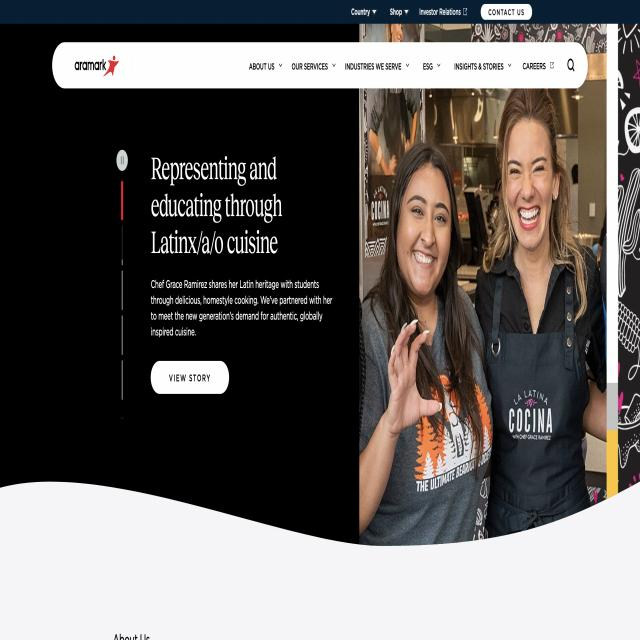Logo: (72, 55, 127, 81)
Navigation: (244, 49, 584, 77)
